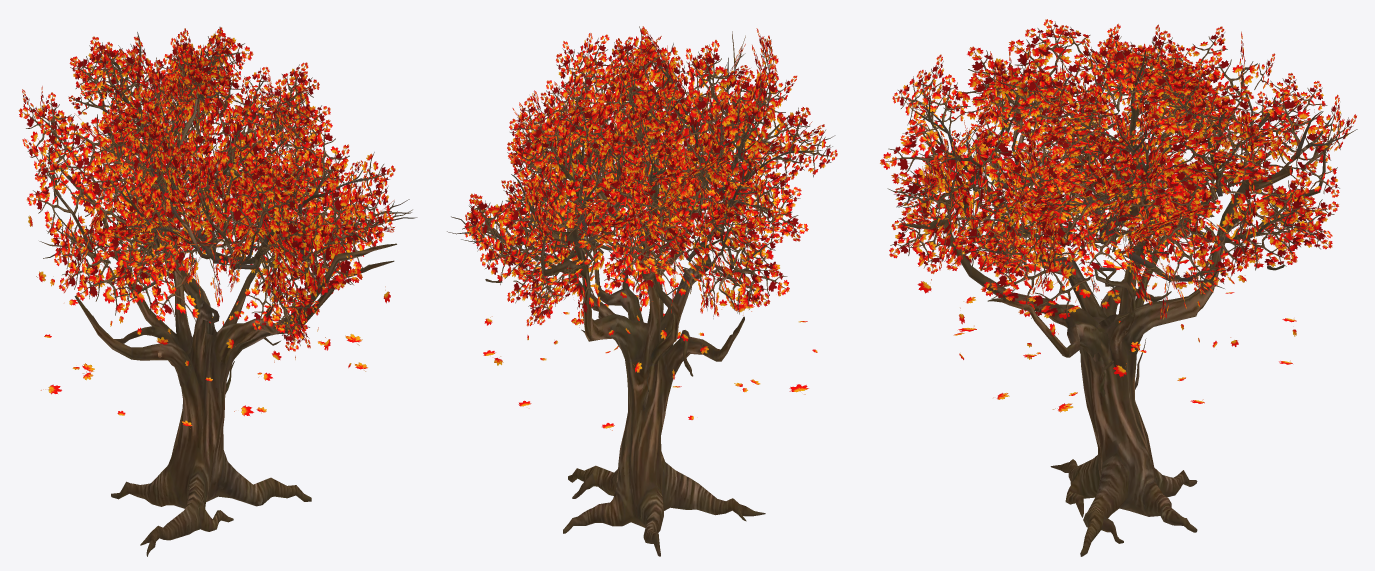
File: tree_mesh.glb
3 renders of one model, left to right at view 1: azimuth 30°, elevation 25°; view 2: azimuth 150°, elevation 25°; view 3: azimuth 270°, elevation 25°, orthographic. The views are drawn at different scales.
Parts seen in each view (by area): view 1: Tree_with_Falling_Leaves.002_5; view 2: Tree_with_Falling_Leaves.002_5; view 3: Tree_with_Falling_Leaves.002_5.
Boxes of the visible parts, bbox=[...] form: Tree_with_Falling_Leaves.002_5: bbox=[18, 27, 417, 556]; Tree_with_Falling_Leaves.002_5: bbox=[447, 26, 837, 556]; Tree_with_Falling_Leaves.002_5: bbox=[880, 19, 1357, 556].
Bounding box in the file's own units: 22.88 × 32.99 × 30.07.
Materials: 3 (3 with a texture image).
